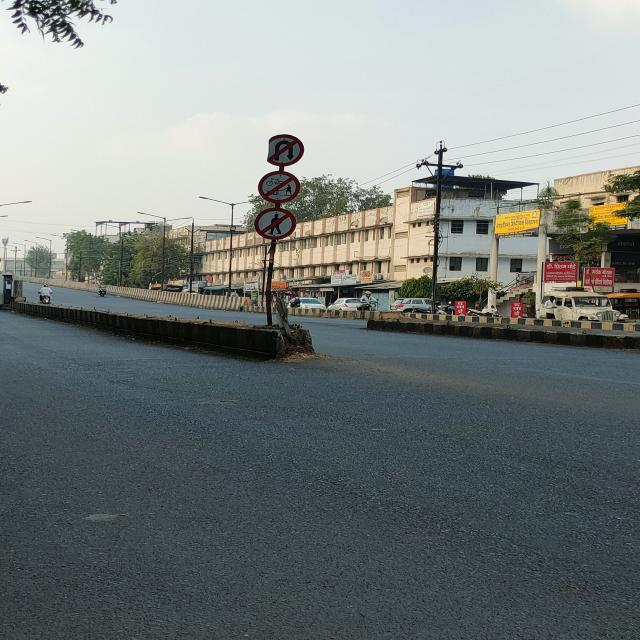railway_crossing: (258, 171, 300, 203)
